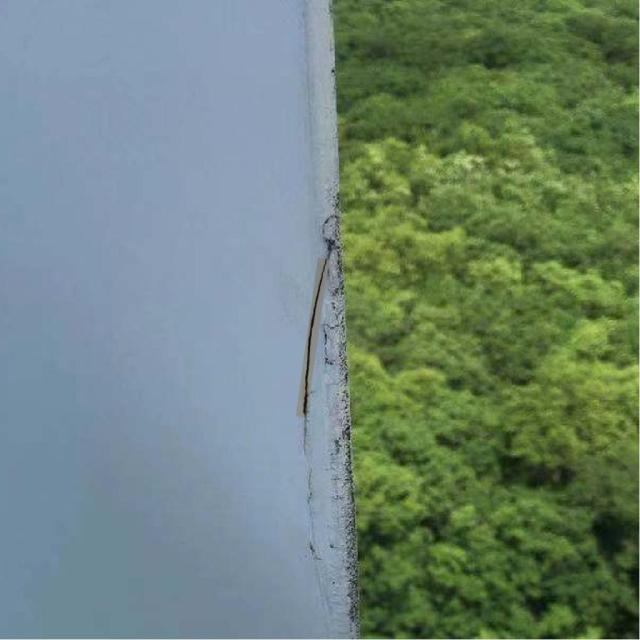crack: (296, 231, 341, 428)
